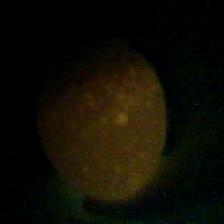fertile: (33, 35, 168, 208)
